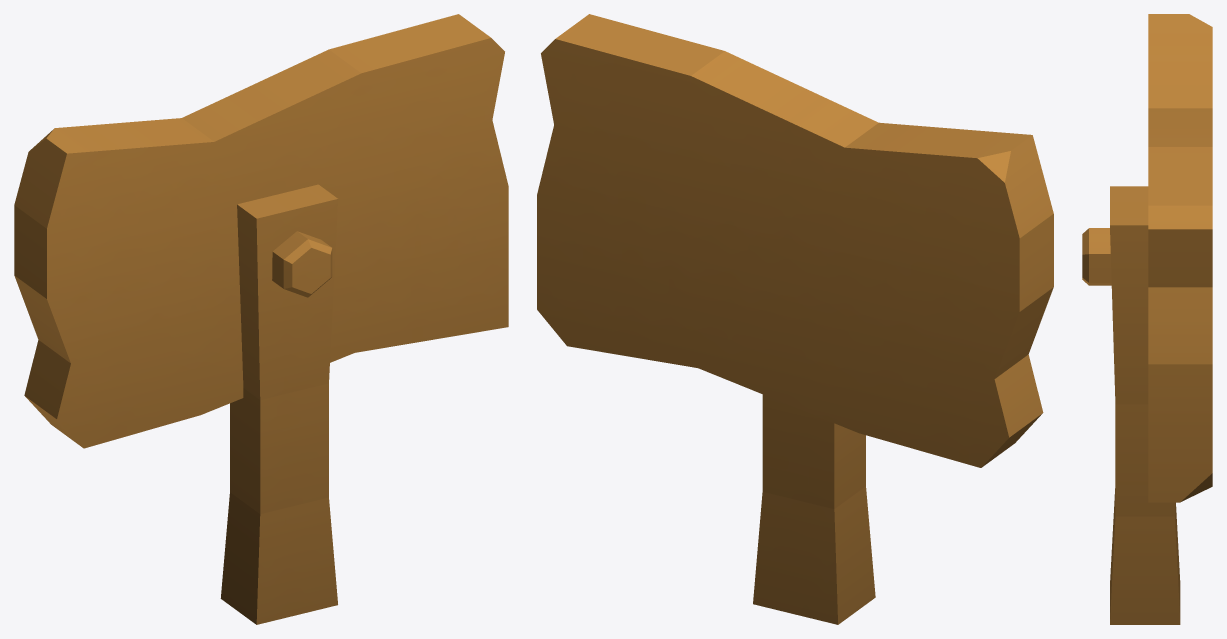
Rendered from Wooden_Sign.fbx.
3 renders of one model, left to right at view 1: azimuth 30°, elevation 25°; view 2: azimuth 150°, elevation 25°; view 3: azimuth 270°, elevation 25°, orthographic. The views are drawn at different scales.
Parts seen in each view (by area): view 1: Cube.002; view 2: Cube.002; view 3: Cube.002.
Part boxes in pixels (x1,y1,x2,y2): Cube.002: (14,14,508,624); Cube.002: (537,14,1053,624); Cube.002: (1082,14,1212,624).
Bounding box in the file's own units: 76.86 × 81.22 × 19.09.
